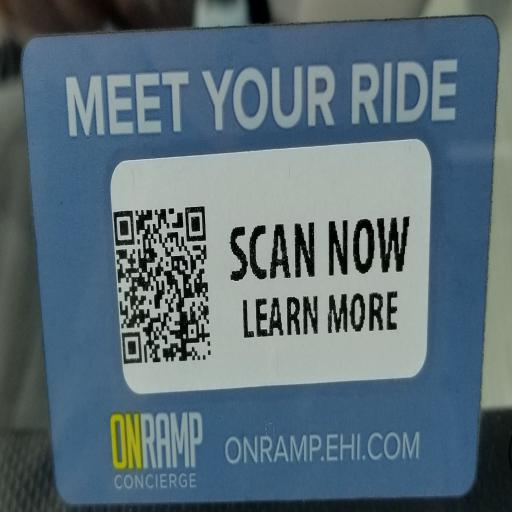QR_CODE: (108, 180, 219, 385)
